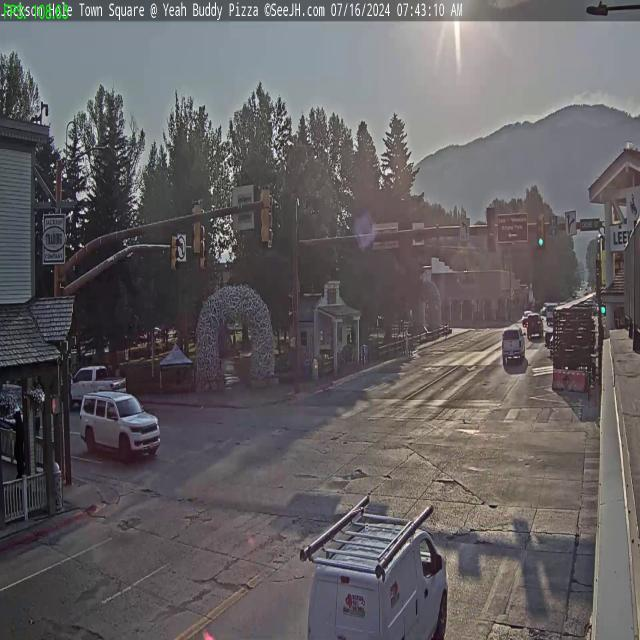pickup: (64, 360, 126, 406)
suv: (82, 388, 162, 464), (501, 326, 524, 361), (526, 312, 543, 337)
traffic light: (260, 185, 272, 245), (191, 198, 203, 256), (486, 207, 496, 252), (171, 235, 179, 272), (537, 213, 545, 248)
van: (302, 492, 451, 639)
